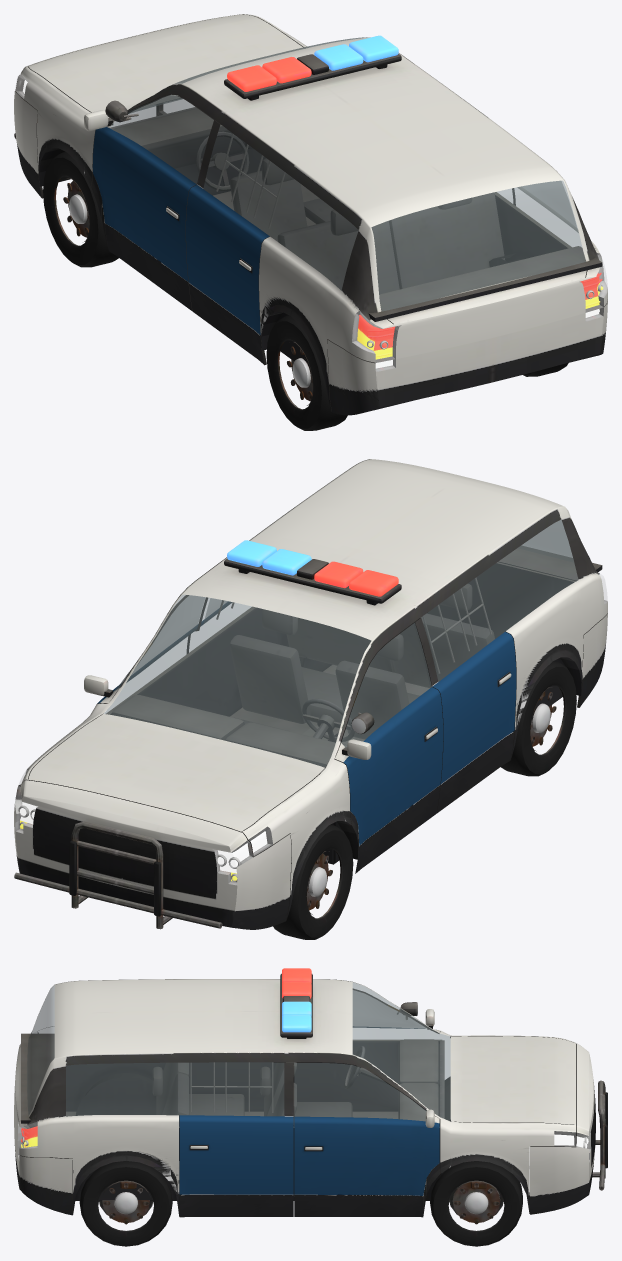
The model's file is police_suv.glb.
The picture shows the model from 3 angles, top to bottom: view 1: azimuth 30°, elevation 25°; view 2: azimuth 150°, elevation 25°; view 3: azimuth 270°, elevation 25°; orthographic projection. The views are drawn at different scales.
Parts seen in each view (by area): view 1: lod0, window_rear, door_fl, bumper_r, hood, window_l, light_bar, wheel_fl_mesh, wheel_rl_mesh, bumper_f, trunk, window_r (+2 smaller); view 2: lod0, window_front, bumper_f, hood, door_fl, window_l, light_bar, wheel_fl_mesh, wheel_rl_mesh, door_fr, bumper_r, window_rear (+1 smaller); view 3: lod0, door_fr, window_r, hood, window_front, bumper_f, wheel_fr, wheel_rr, bumper_r, light_bar, window_rear, door_fl (+1 smaller).
Boxes of the visible parts, x1,y1,x2,y2 form: lod0: (15, 14, 607, 413); window_rear: (371, 180, 585, 311); door_fl: (84, 95, 214, 311); bumper_r: (327, 300, 607, 415); hood: (28, 14, 304, 117); window_l: (203, 125, 358, 290); light_bar: (105, 35, 401, 122); wheel_fl_mesh: (43, 152, 118, 267); wheel_rl_mesh: (266, 315, 347, 430); bumper_f: (14, 14, 239, 198); trunk: (387, 270, 586, 324); window_r: (518, 181, 577, 231); lod0: (18, 459, 607, 920); window_front: (104, 594, 370, 767); bumper_f: (14, 780, 291, 929); hood: (28, 714, 325, 832); door_fl: (335, 622, 443, 873); window_l: (421, 520, 578, 681); light_bar: (224, 540, 401, 734); wheel_fl_mesh: (273, 824, 353, 939); wheel_rl_mesh: (501, 661, 576, 776); door_fr: (84, 595, 204, 703); bumper_r: (577, 613, 607, 707); window_rear: (518, 520, 573, 562); lod0: (14, 979, 576, 1217); door_fr: (294, 1062, 440, 1217); window_r: (66, 1062, 284, 1116); hood: (450, 1036, 575, 1124); window_front: (352, 982, 450, 1120); bumper_f: (529, 1043, 607, 1214); wheel_fr: (430, 1161, 522, 1246); wheel_rr: (79, 1161, 172, 1246); bumper_r: (14, 1118, 72, 1215); light_bar: (280, 968, 417, 1038); window_rear: (27, 985, 54, 1114); door_fl: (352, 988, 439, 1033).
Size of what is drawn, in the model's own units: 2.22 by 1.93 by 5.12.
13 materials, 11 textured.
